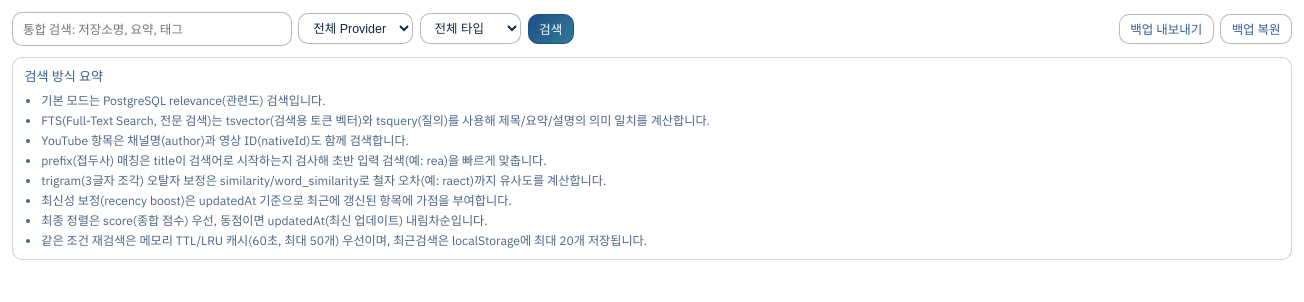
Test case: UnifiedSearchFeatureEntry › shows api error message when search request fails
Step 1. Type "react" into the field named "통합 검색어" → (152, 29), box [12,12,292,46]
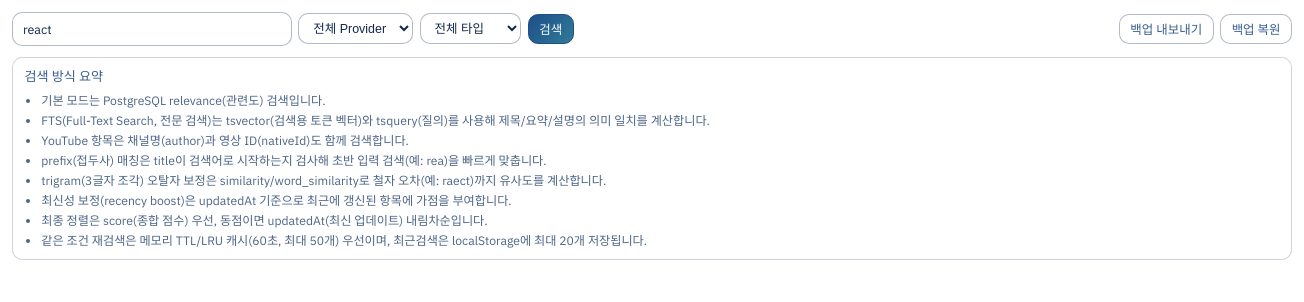
Step 2. Click the button "검색" → (551, 29), box [528,14,574,44]
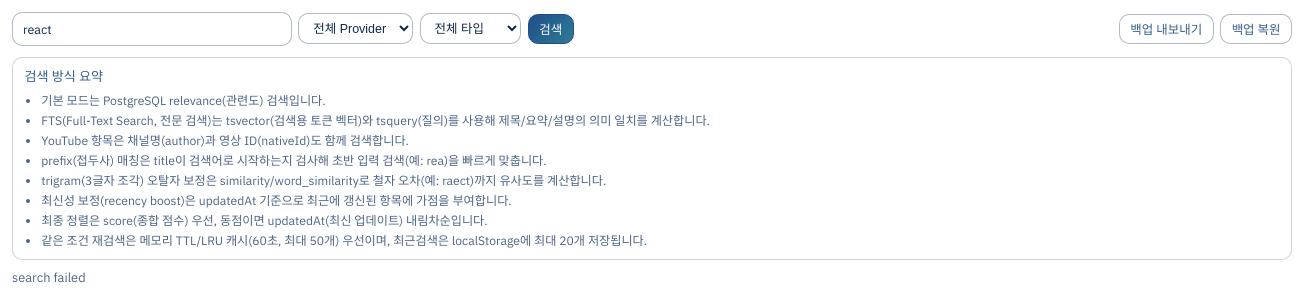
Check: the text "search failed" is shown, box [12,269,86,286]
